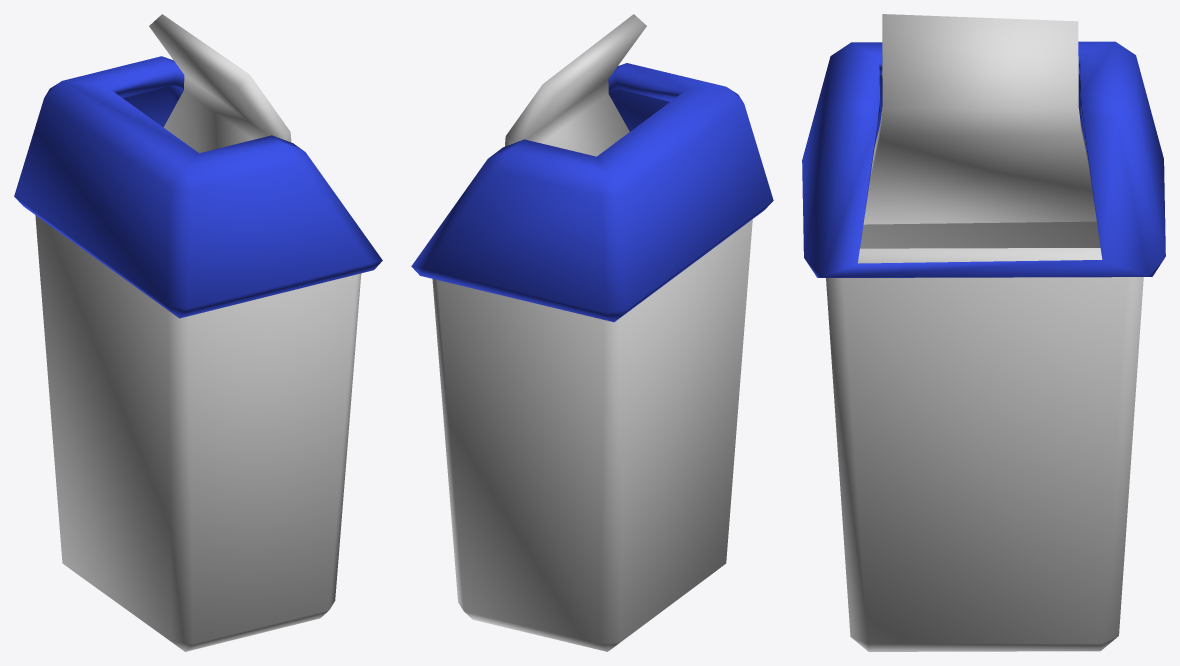
Rendered from Bin.fbx.
3 renders of one model, left to right at view 1: azimuth 30°, elevation 25°; view 2: azimuth 150°, elevation 25°; view 3: azimuth 270°, elevation 25°, orthographic. The views are drawn at different scales.
Visible parts, largest first — view 1: Bin 01; view 2: Bin 01; view 3: Bin 01.
Part boxes in pixels (x1,y1,x2,y2): Bin 01: (14,14,382,651); Bin 01: (411,14,773,651); Bin 01: (802,14,1165,651).
Size of the model in its own units: 0.6923 by 1.67 by 0.9119.
